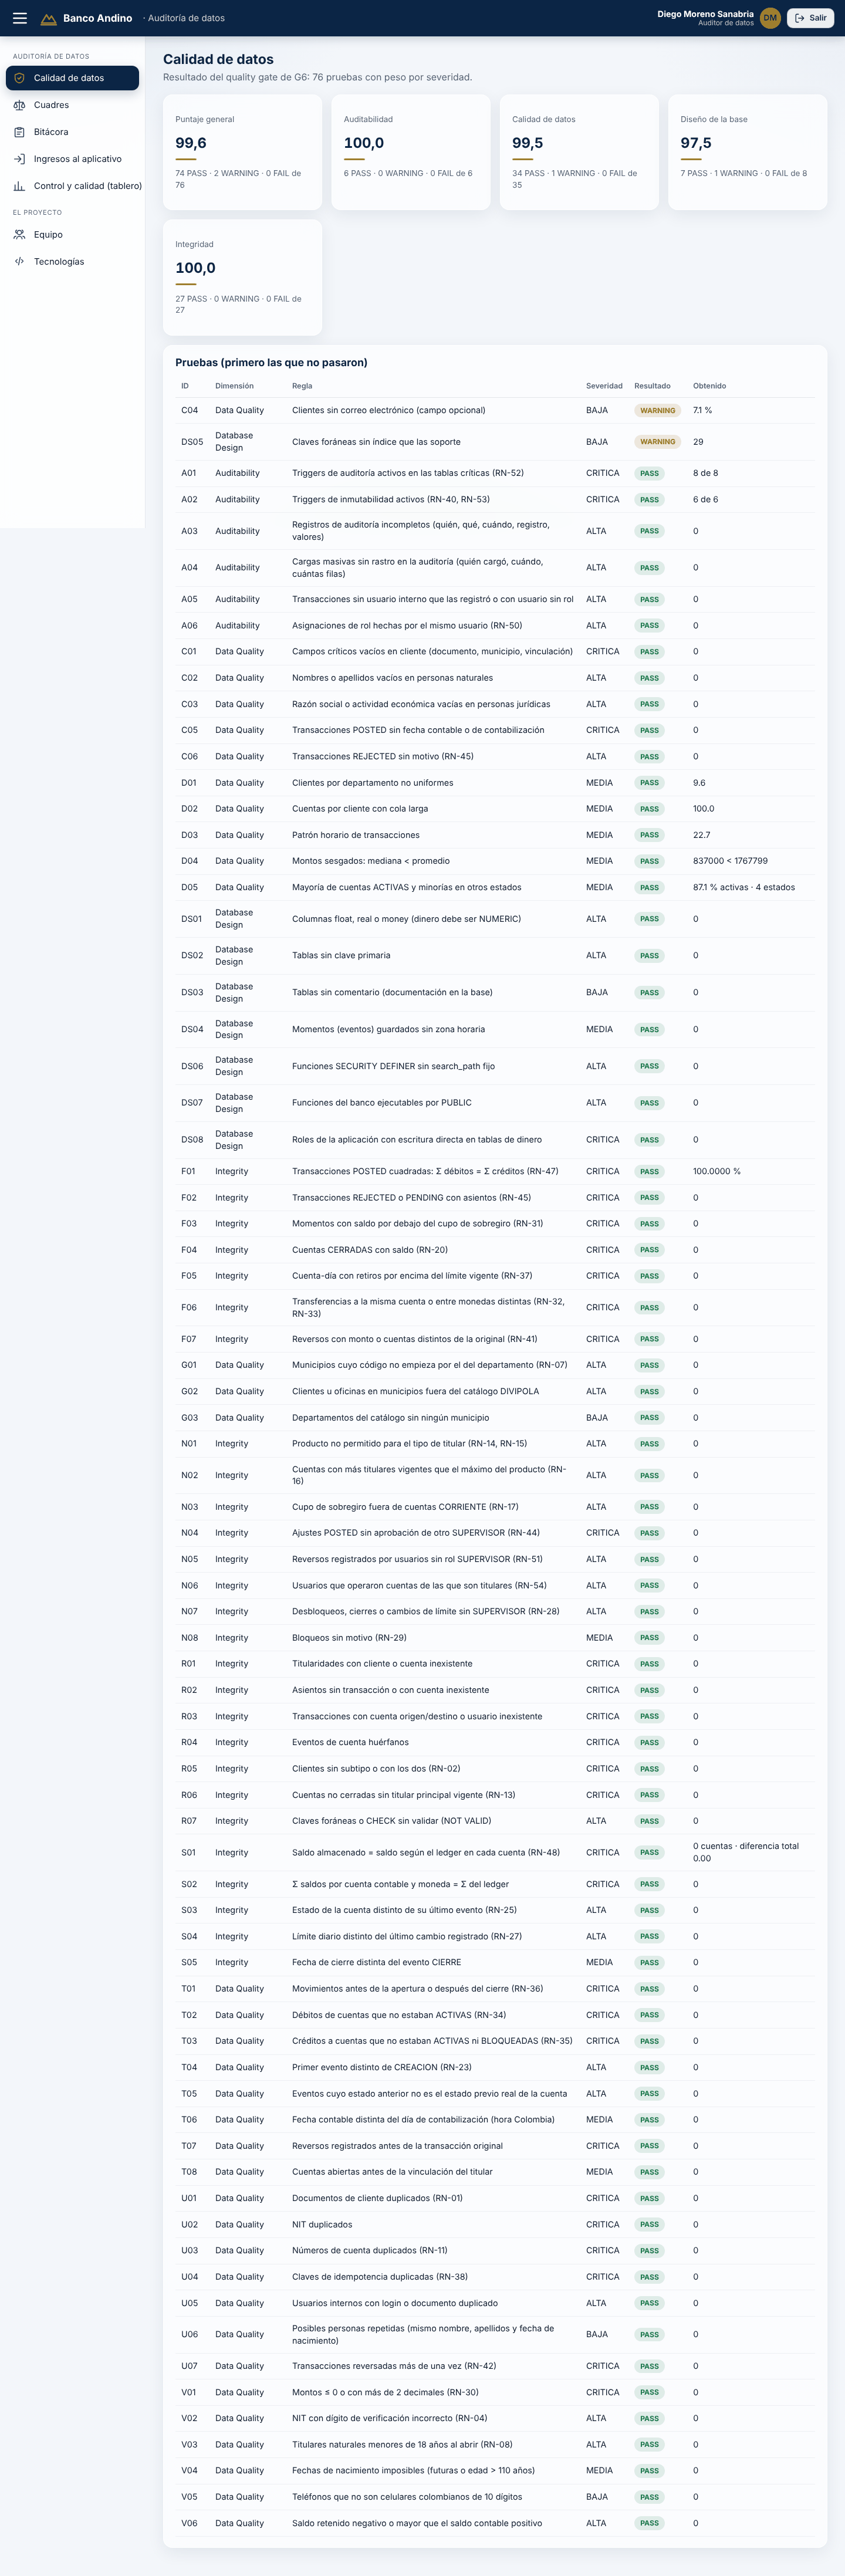

Layout of this report page (visuals, bound fields, positions):
{"tool":"powerbi","page":{"name":"Control y calidad","canvas":[1280,720],"ordinal":3},"visuals":[{"type":"textbox","box":[24,12,700,48],"z":0},{"type":"card","fields":{"Values":["bi calidad_prueba.K12 Puntaje del quality gate"]},"box":[24,84,299,96],"z":10000},{"type":"card","fields":{"Values":["bi fact_control.K13 Controles en PASS"]},"box":[335,84,299,96],"z":11000},{"type":"card","fields":{"Values":["bi fact_transaccion.K01 Transacciones contabilizadas"]},"box":[646,84,299,96],"z":12000},{"type":"card","fields":{"Values":["bi fact_saldo_cuenta.Cuentas al corte"]},"box":[957,84,299,96],"z":13000},{"type":"tableEx","title":"Controles de cuadre y calidad (fecha de carga)","fields":{"Values":["bi fact_control.control_id","bi fact_control.grupo","bi fact_control.control","bi fact_control.esperado","bi fact_control.obtenido","bi fact_control.resultado"]},"box":[24,196,1232,230],"z":20000},{"type":"tableEx","title":"Pruebas del quality gate de G6","fields":{"Values":["bi calidad_prueba.test_id","bi calidad_prueba.dimension","bi calidad_prueba.regla","bi calidad_prueba.severidad","bi calidad_prueba.resultado","bi calidad_prueba.obtenido"]},"box":[24,438,1232,260],"z":21000}]}

Visuals, with their boxes on the page's 1280x720 design canvas (x1, y1, x2, y2). These are canvas units, not pixel positions in the 845x2576 screenshot, which may show the page scaled, cropped or inside an application window:
textbox: select_region(24, 12, 724, 60)
card - bi calidad_prueba.K12 Puntaje del quality gate: select_region(24, 84, 323, 180)
card - bi fact_control.K13 Controles en PASS: select_region(335, 84, 634, 180)
card - bi fact_transaccion.K01 Transacciones contabilizadas: select_region(646, 84, 945, 180)
card - bi fact_saldo_cuenta.Cuentas al corte: select_region(957, 84, 1256, 180)
"Controles de cuadre y calidad (fecha de carga)" tableEx: select_region(24, 196, 1256, 426)
"Pruebas del quality gate de G6" tableEx: select_region(24, 438, 1256, 698)
